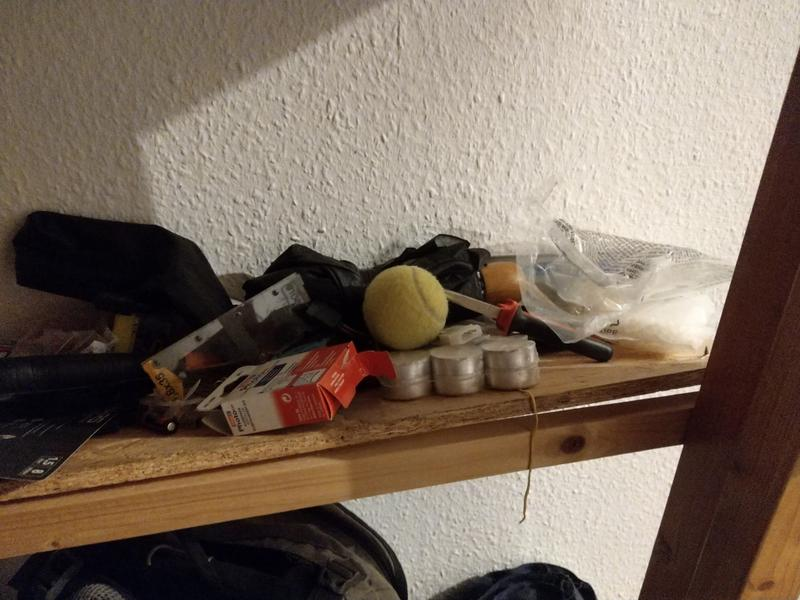Tennisball: (362, 262, 451, 355)
